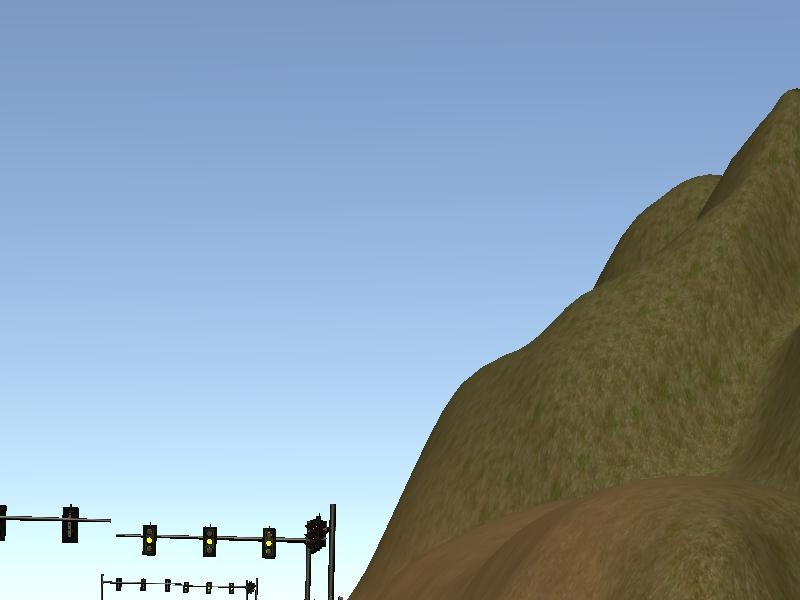yellow: (198, 523, 218, 562), (140, 523, 157, 559), (260, 526, 278, 559)
